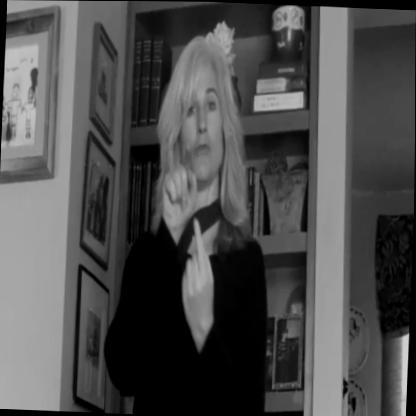NiceToMeetYou: (142, 155, 225, 337)
